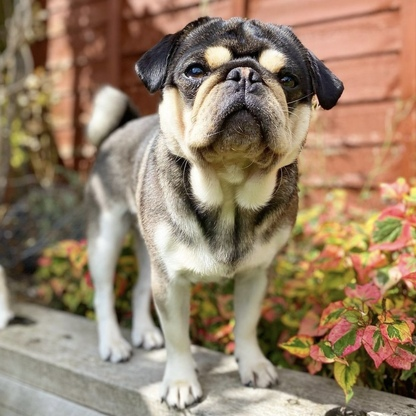Pug: (79, 8, 345, 413)
